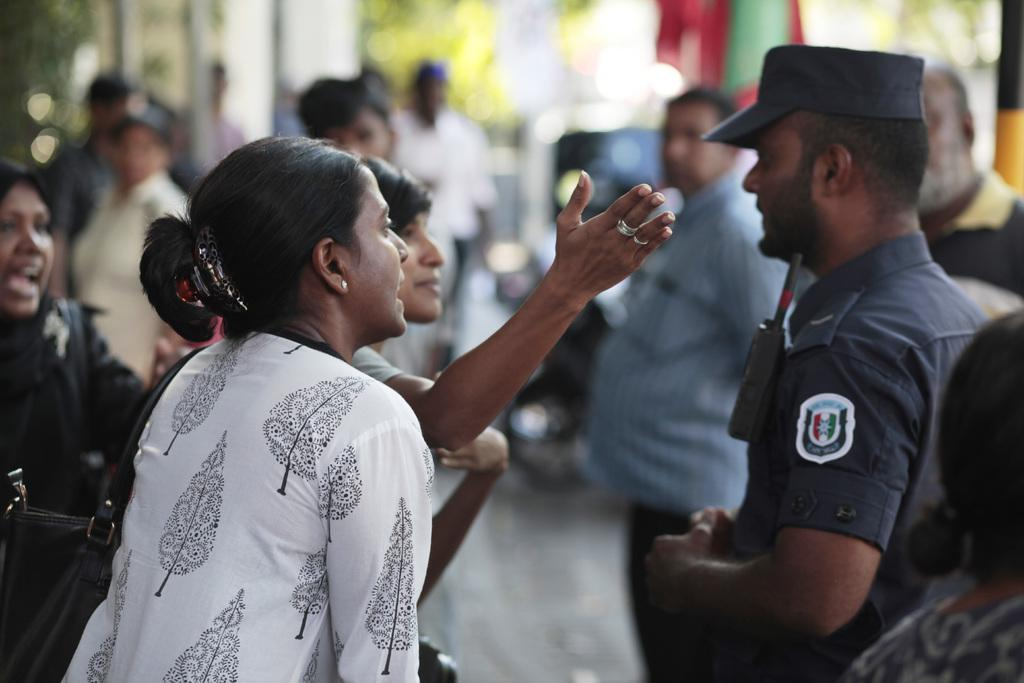Hat: (702, 41, 925, 146)
